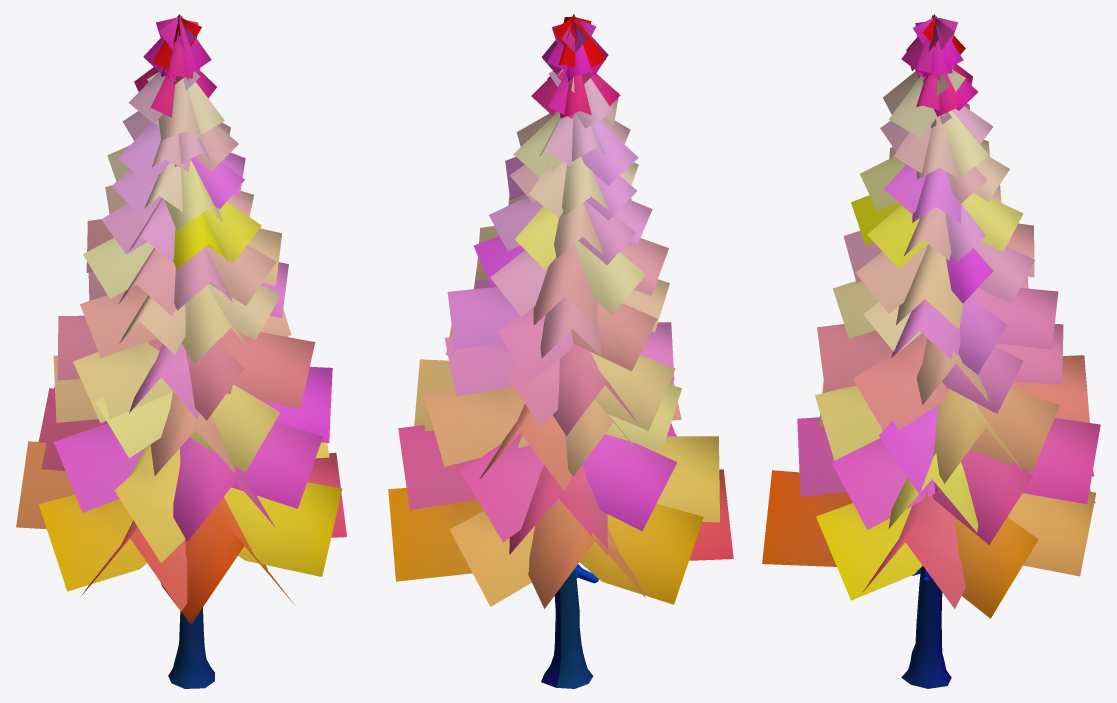
File: treeThreeLod1.glb
The picture shows the model from 3 angles, left to right: view 1: azimuth 30°, elevation 25°; view 2: azimuth 150°, elevation 25°; view 3: azimuth 270°, elevation 25°; orthographic projection.
Parts seen in each view (by area): view 1: Mesh_0.016; view 2: Mesh_0.016; view 3: Mesh_0.016.
Boxes of the visible parts, box(x1,y1,x2,y2) form: Mesh_0.016: box(16, 14, 346, 688); Mesh_0.016: box(388, 14, 733, 688); Mesh_0.016: box(762, 14, 1100, 688).
Bounding box in the file's own units: 16.01 × 35.07 × 16.43.
